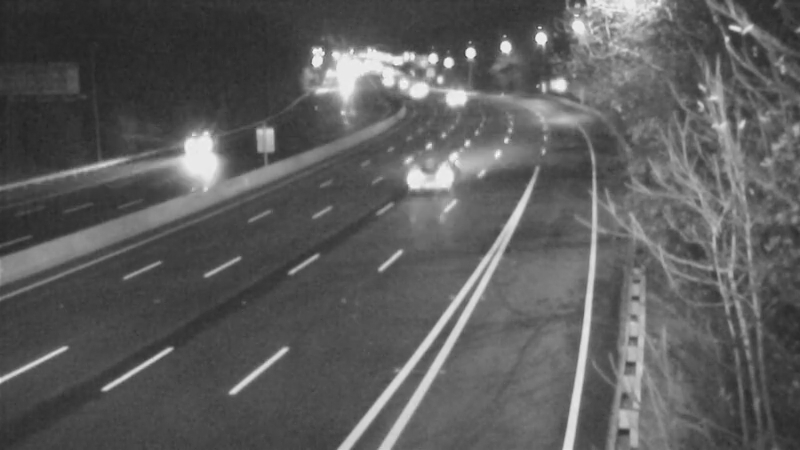vehicle: (394, 133, 474, 213), (158, 111, 238, 191), (427, 69, 477, 119)
